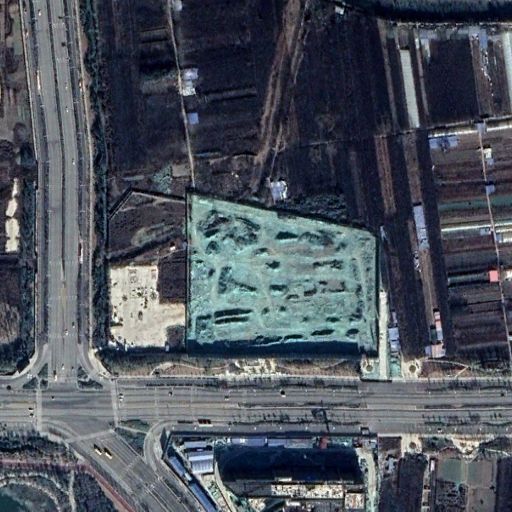cw: (187, 192, 379, 361)
